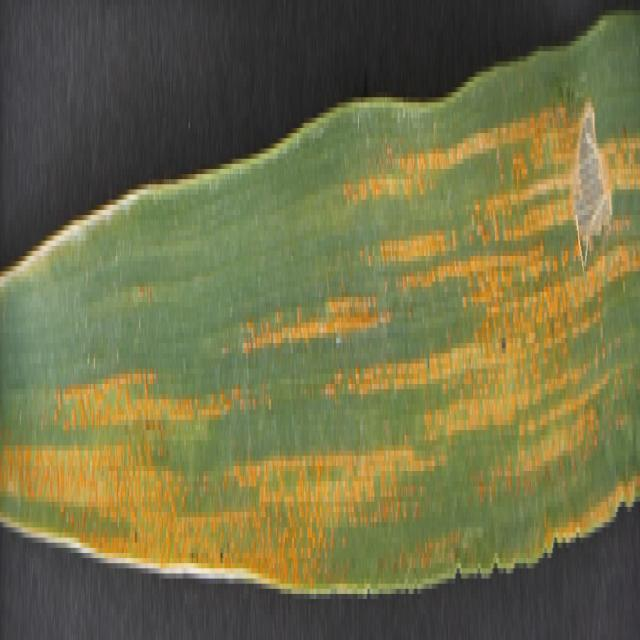leaf rust: (1, 20, 638, 640)
